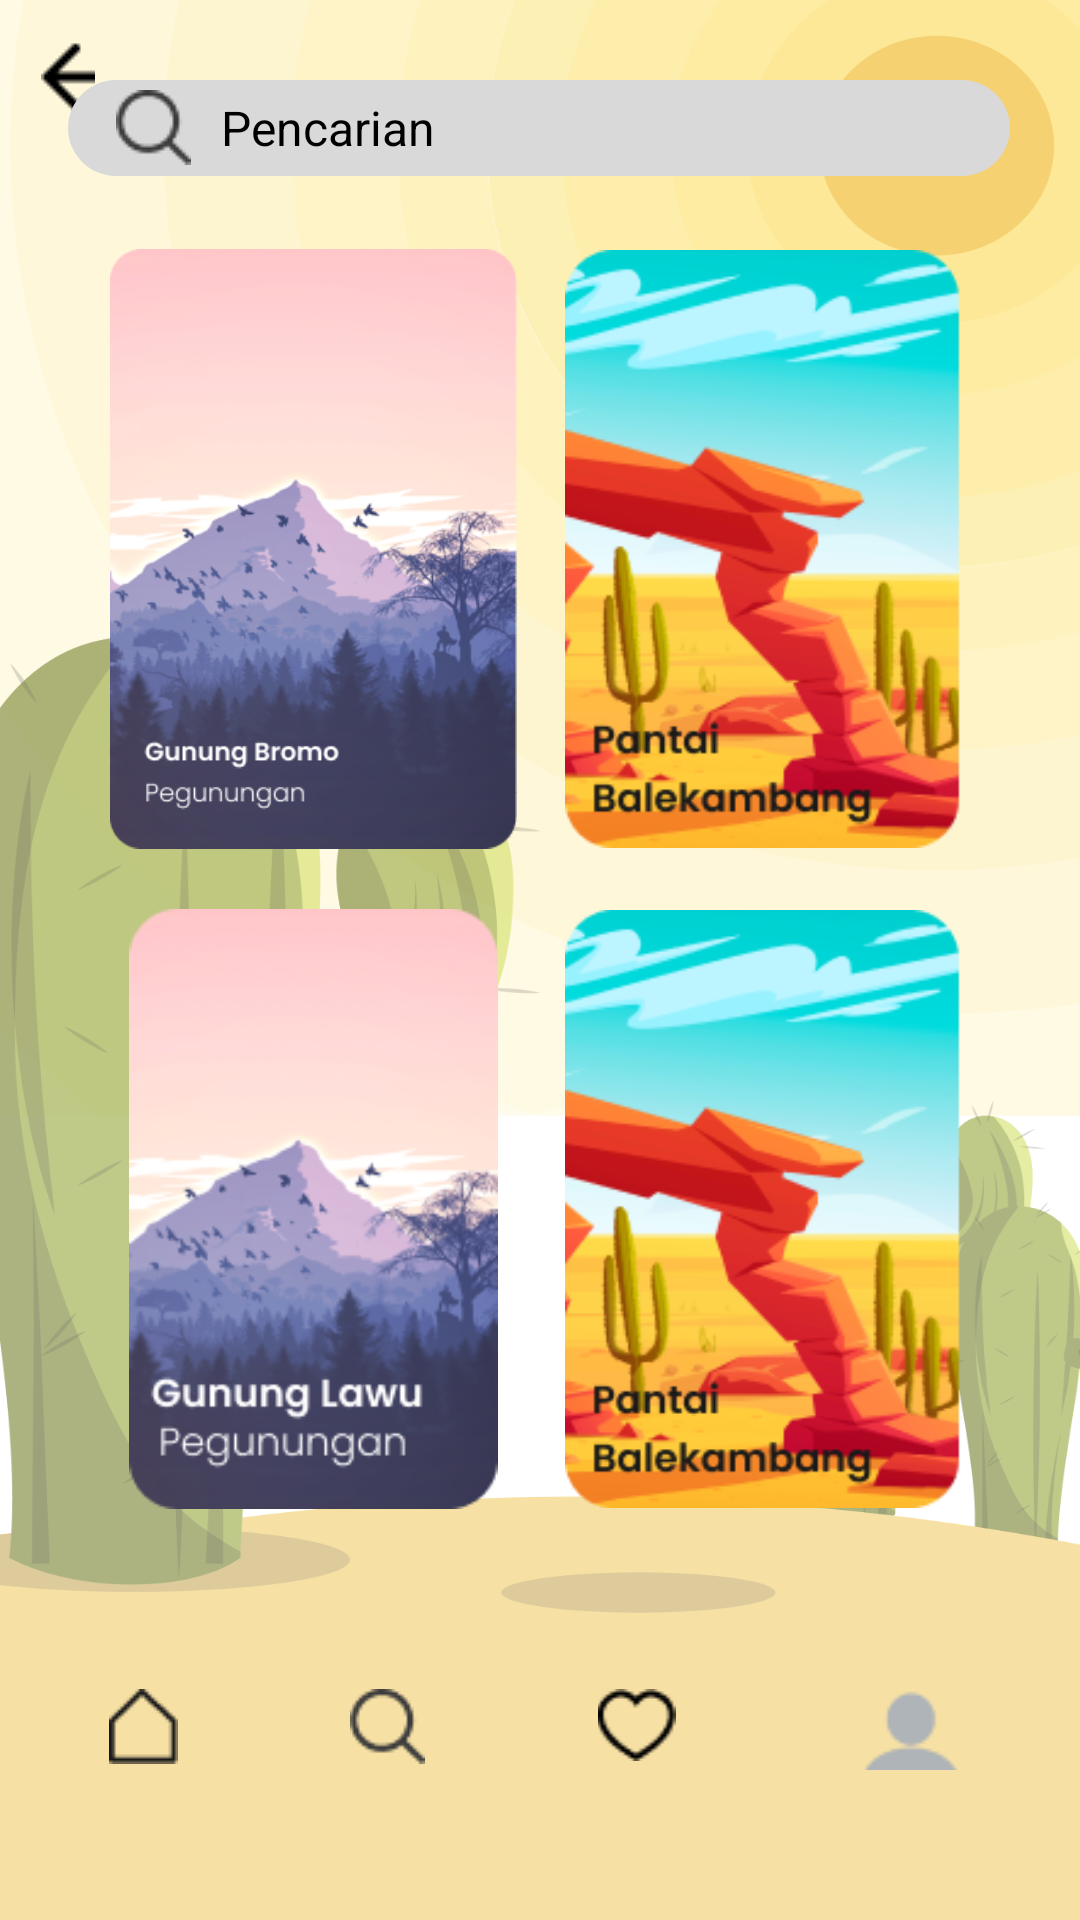

Where icons sit on this 1080w x 1920h app screen, as (x1, y1, x2, y2):
home: (109, 1689, 178, 1764)
like: (598, 1689, 676, 1761)
person: (866, 1692, 956, 1770)
search: (350, 1689, 425, 1764)
